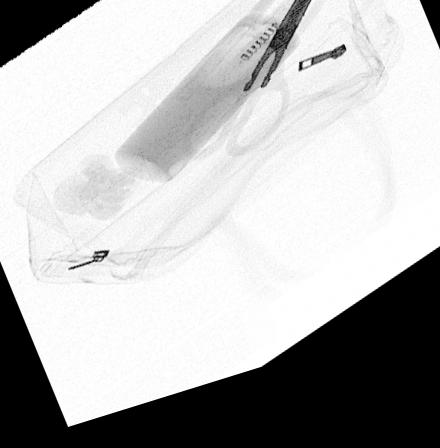Scissors: (177, 0, 323, 173)
